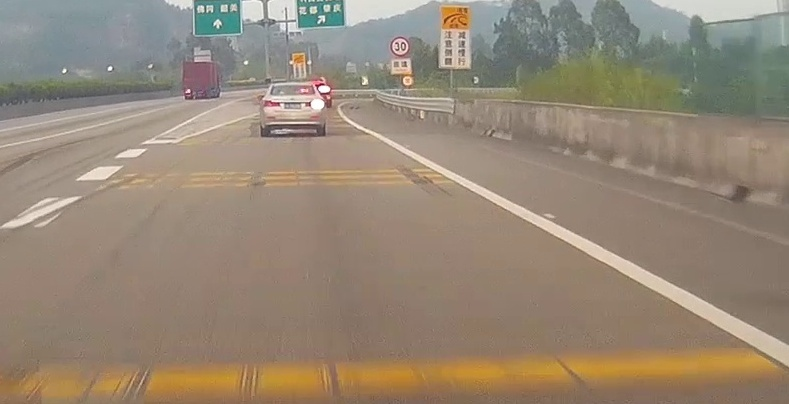L_light: (262, 100, 280, 107), (184, 89, 191, 94)
R_light: (305, 101, 320, 107), (206, 88, 212, 94)
T_light: (289, 84, 298, 86), (195, 62, 204, 64)
day-left: (182, 61, 213, 101)
day-right: (260, 82, 326, 137)
